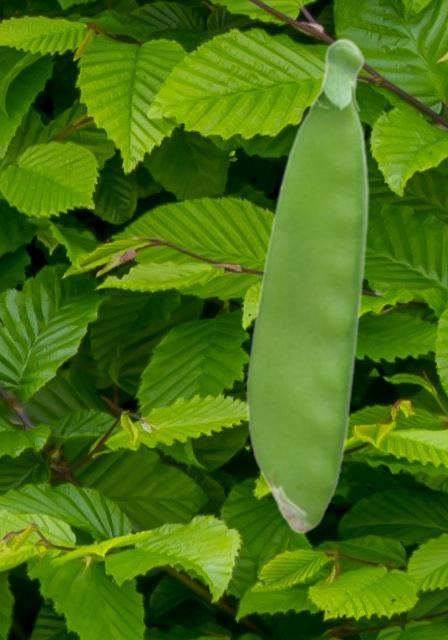pea: (245, 36, 369, 533)
